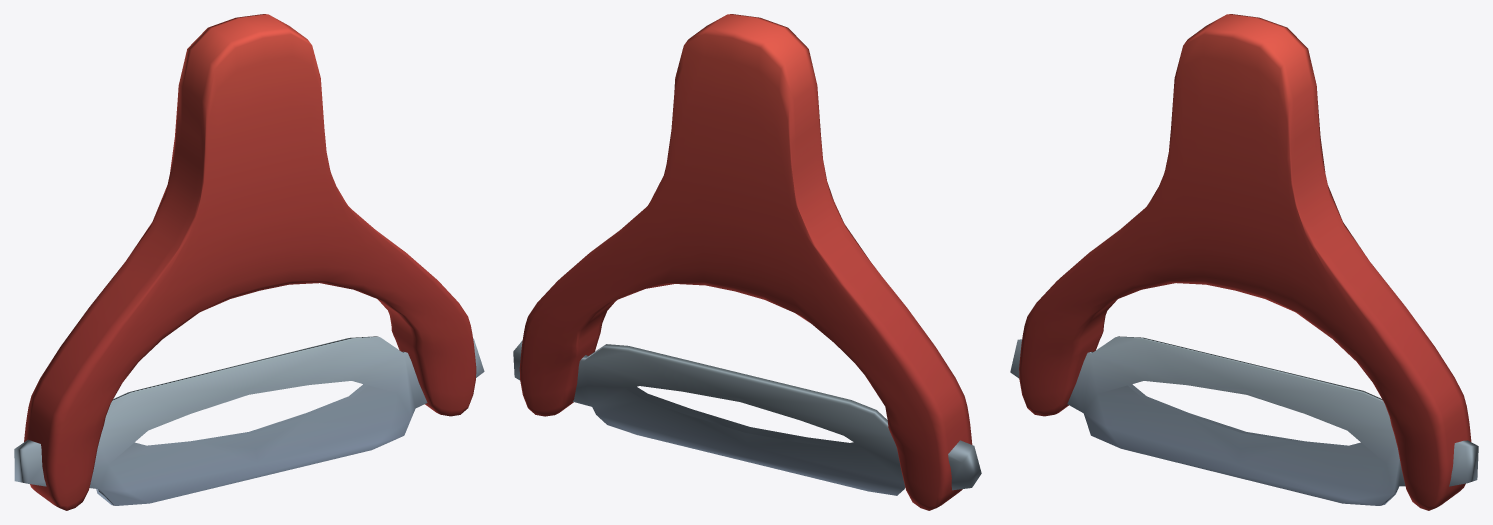
The model's file is PeelingPotatoes.fbx.
3 views of the same model, side by side, from view 1: azimuth 30°, elevation 25°; view 2: azimuth 150°, elevation 25°; view 3: azimuth 330°, elevation 25° (orthographic).
Parts seen in each view (by area): view 1: Cube.001, Cube.002; view 2: Cube.001, Cube.002; view 3: Cube.001, Cube.002.
Boxes of the visible parts, left/top/right/bottom form: Cube.001: left=24, top=14, right=476, bottom=510; Cube.002: left=14, top=336, right=484, bottom=505; Cube.001: left=519, top=14, right=972, bottom=510; Cube.002: left=513, top=340, right=981, bottom=495; Cube.001: left=1019, top=14, right=1471, bottom=510; Cube.002: left=1010, top=336, right=1478, bottom=505.
Size of the model in its own units: 153 by 141 by 18.
